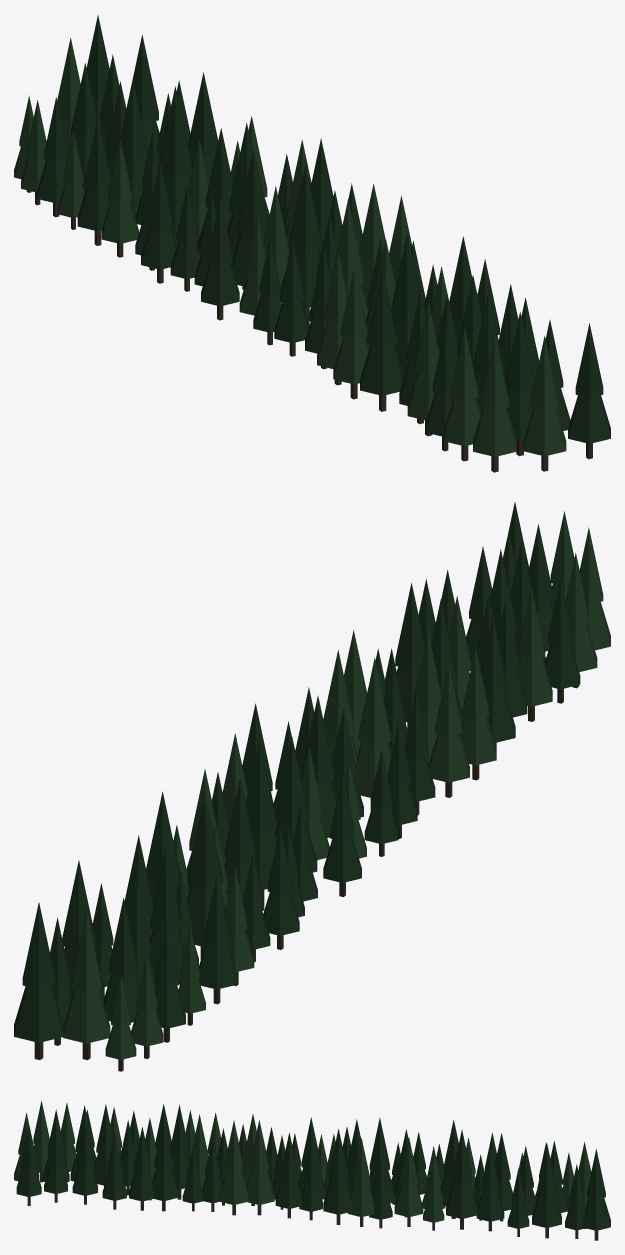
The model's file is forest_edge_21.glb.
3 renders of one model, top to bottom at view 1: azimuth 30°, elevation 25°; view 2: azimuth 150°, elevation 25°; view 3: azimuth 270°, elevation 25°, orthographic. The views are drawn at different scales.
Parts seen in each view (by area): view 1: chunk_0_0; view 2: chunk_0_0; view 3: chunk_0_0.
Part boxes in pixels (x1=…): chunk_0_0: x1=14, y1=15, x2=610, y2=472; chunk_0_0: x1=14, y1=502, x2=610, y2=1071; chunk_0_0: x1=14, y1=1101, x2=610, y2=1240.
Size of the model in its own units: 23.39 by 33.68 by 146.
